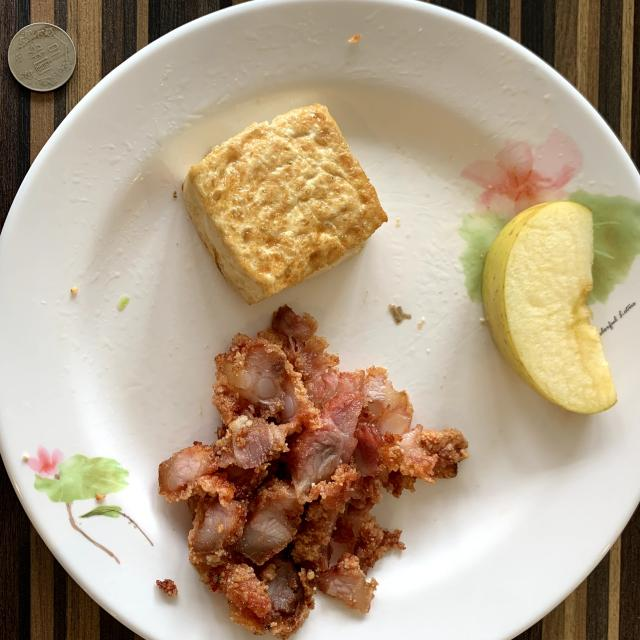apple -sliced-: (482, 201, 616, 414)
coin: (8, 22, 76, 91)
red grilled pork: (159, 306, 468, 639)
